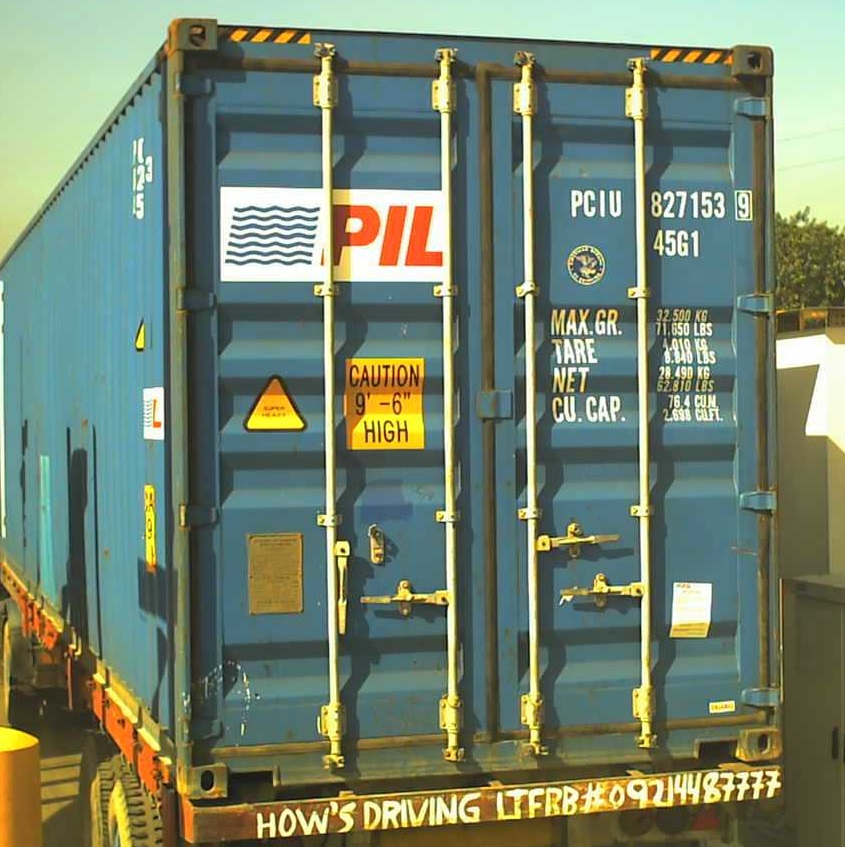container_door: (167, 16, 782, 810)
